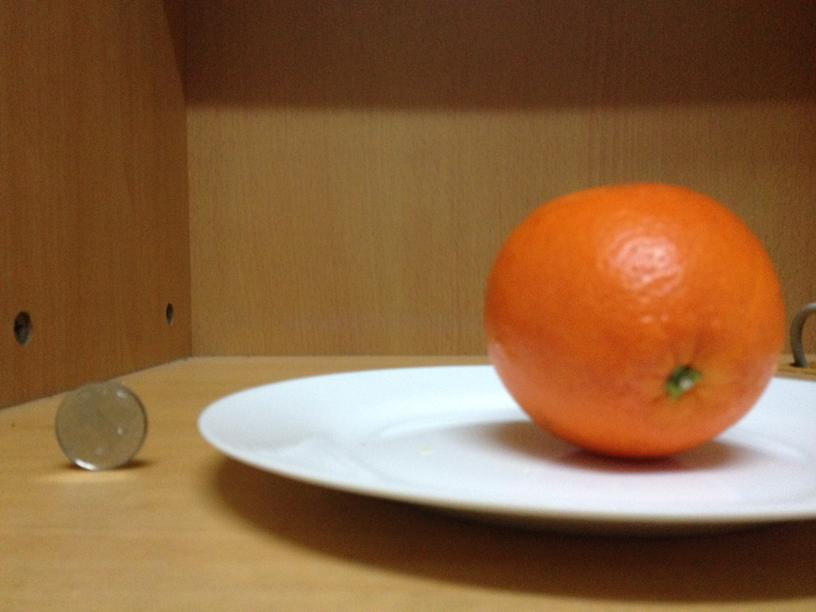coin: (55, 381, 148, 471)
orange: (488, 179, 781, 456)
